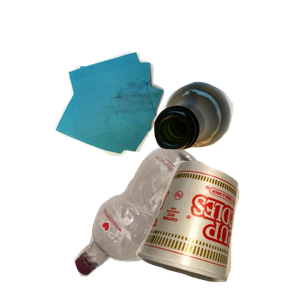glass: (151, 79, 300, 221)
paper: (52, 49, 209, 198)
plastic: (72, 142, 273, 300)
trash: (133, 158, 300, 300)
